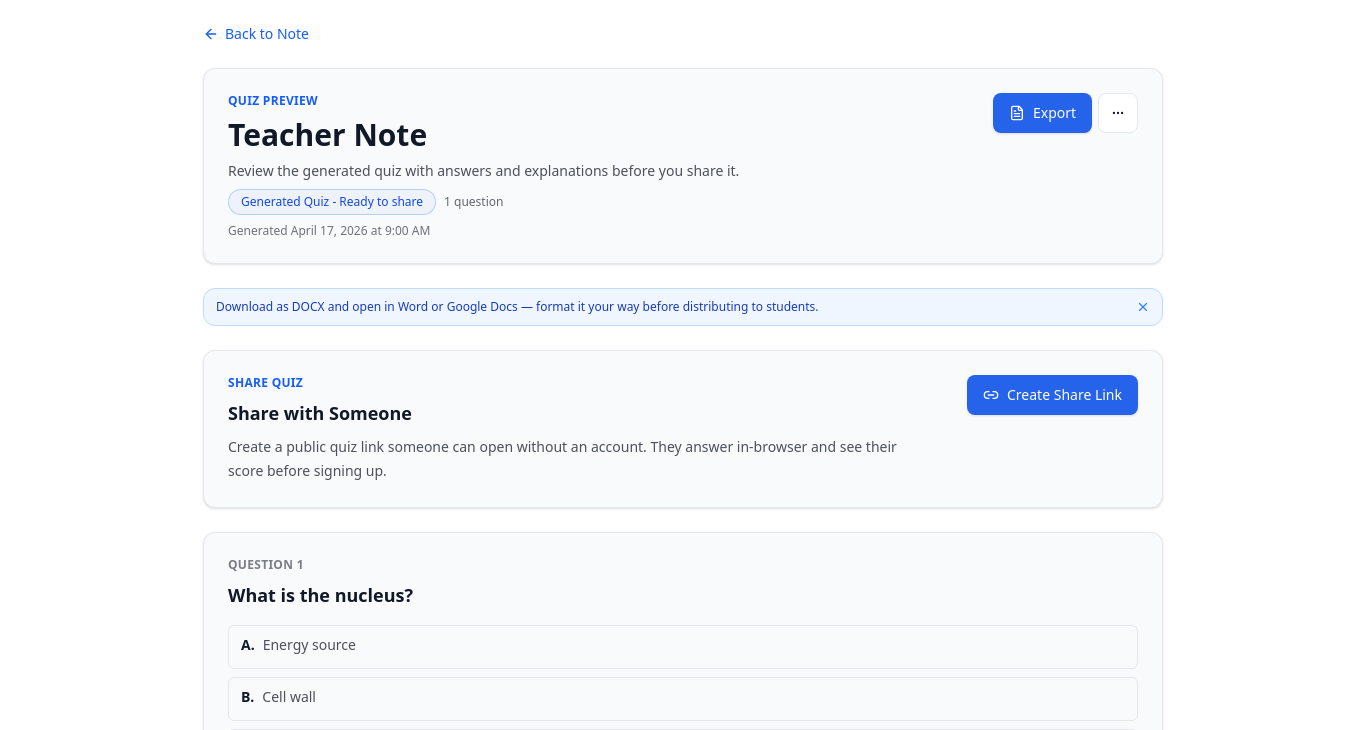
GeneratedQuizPreviewPageClient › opens the exam versions paywall when a Free teacher clicks a locked version
Expected: the heading "What is the nucleus?" is shown, [228, 583, 413, 607]
What coordinates should you click on to do the following:
click the button "Export"
I would click on:
 (1042, 113)
Its box is [993, 93, 1092, 133].
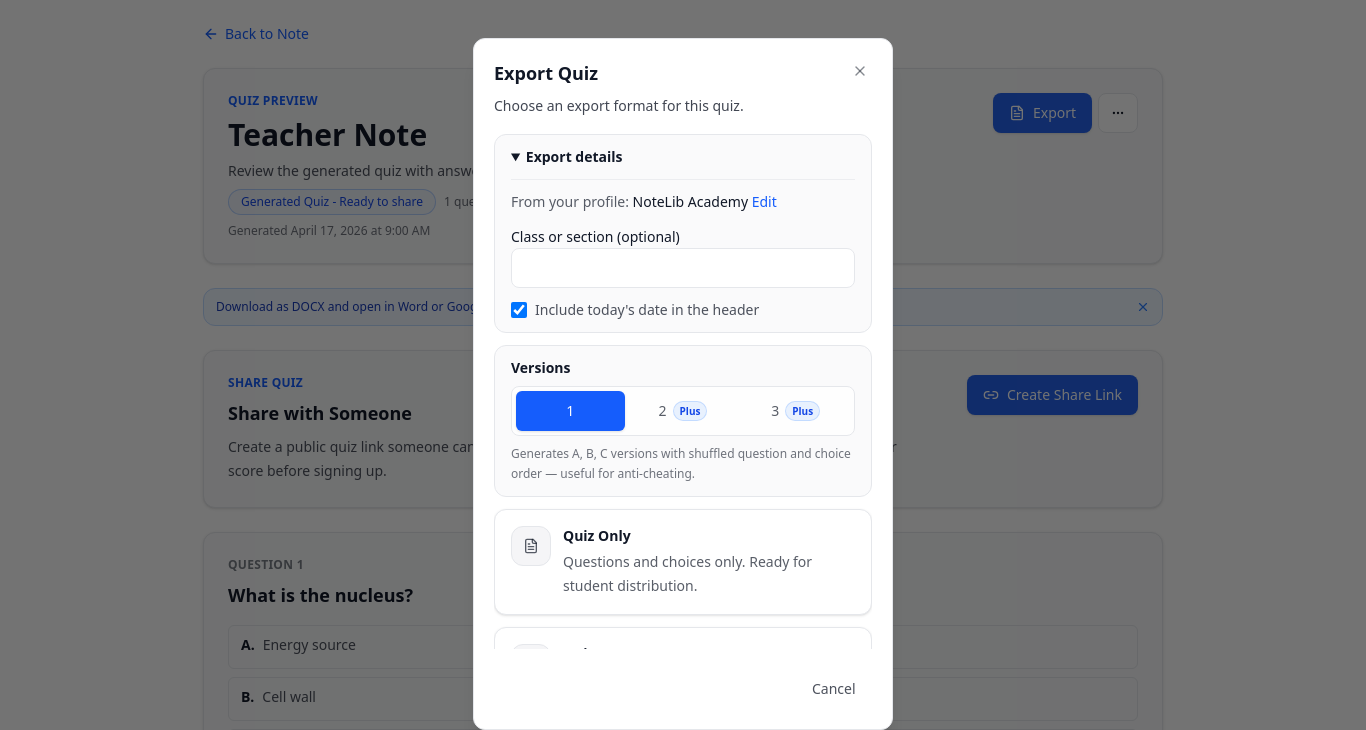
What coordinates should you click on to do the following:
click the button "2 Plus"
I would click on:
 (683, 411)
Its box is [629, 391, 737, 431].
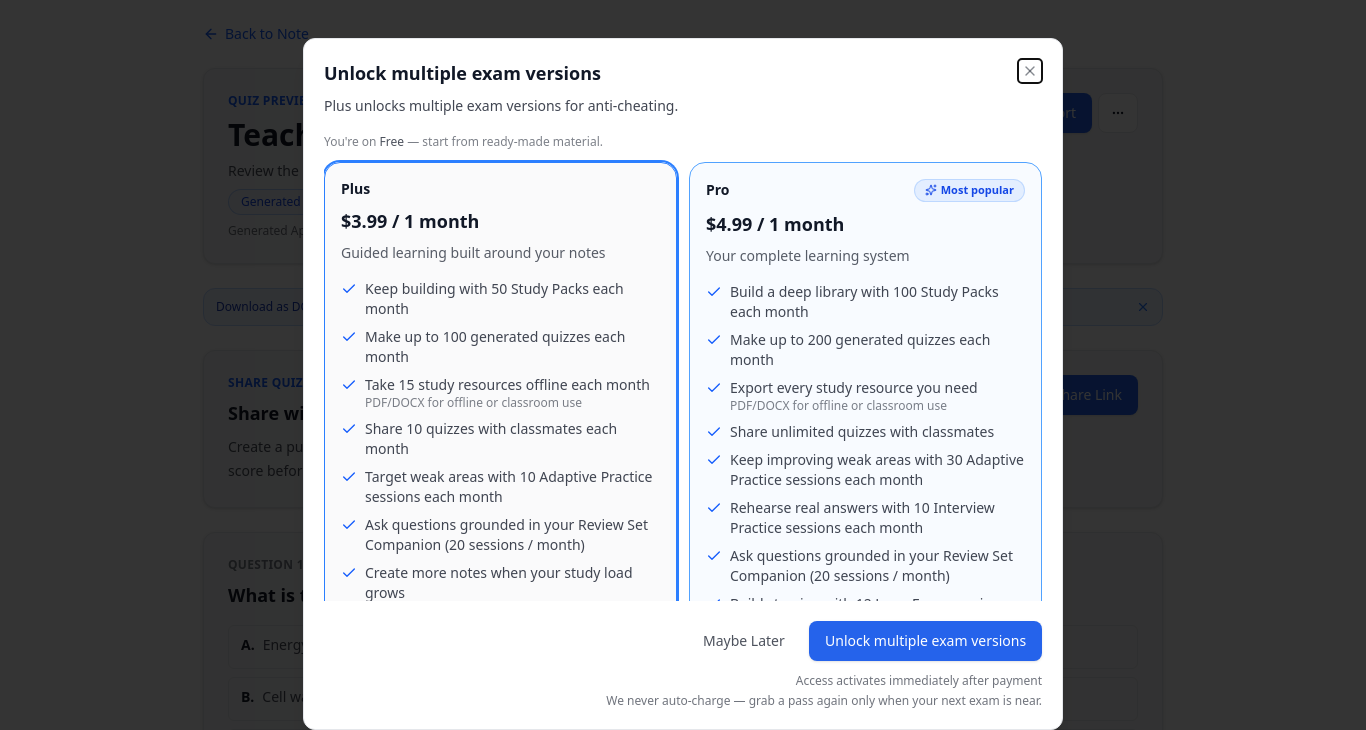
Now the heading "Unlock multiple exam versions" is shown, box [324, 59, 601, 87]
Now the text "Plus unlocks multiple exam versions for anti-cheating." is shown, box [324, 95, 678, 118]
